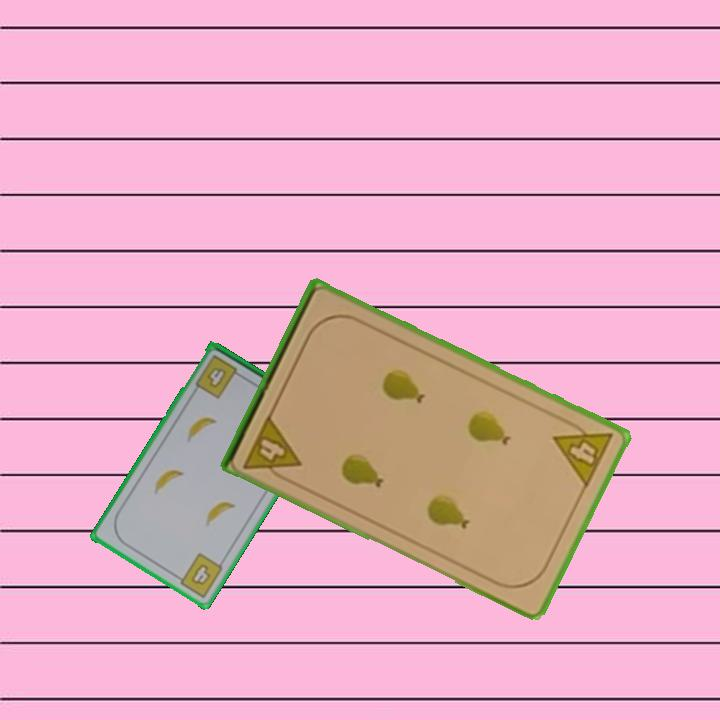4b: (171, 549, 226, 601), (192, 351, 246, 402)
4p: (549, 414, 616, 491), (239, 410, 304, 486)
